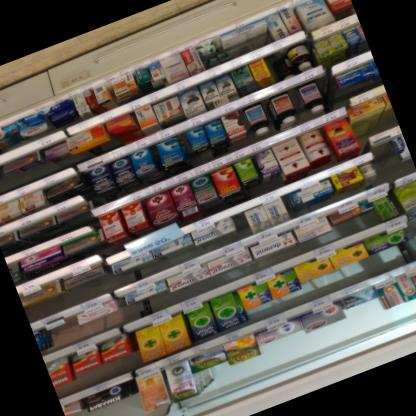empty_space: (0, 159, 48, 200), (47, 313, 85, 349), (370, 142, 404, 182), (264, 47, 291, 73), (287, 88, 307, 122)
